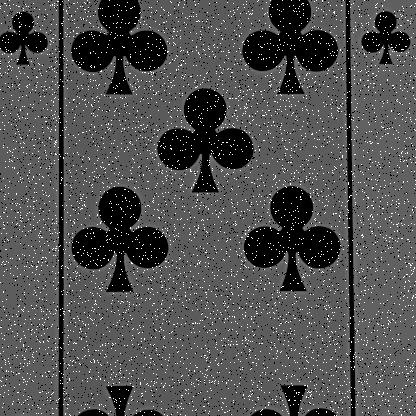7c: (346, 0, 415, 85), (0, 0, 58, 88)
